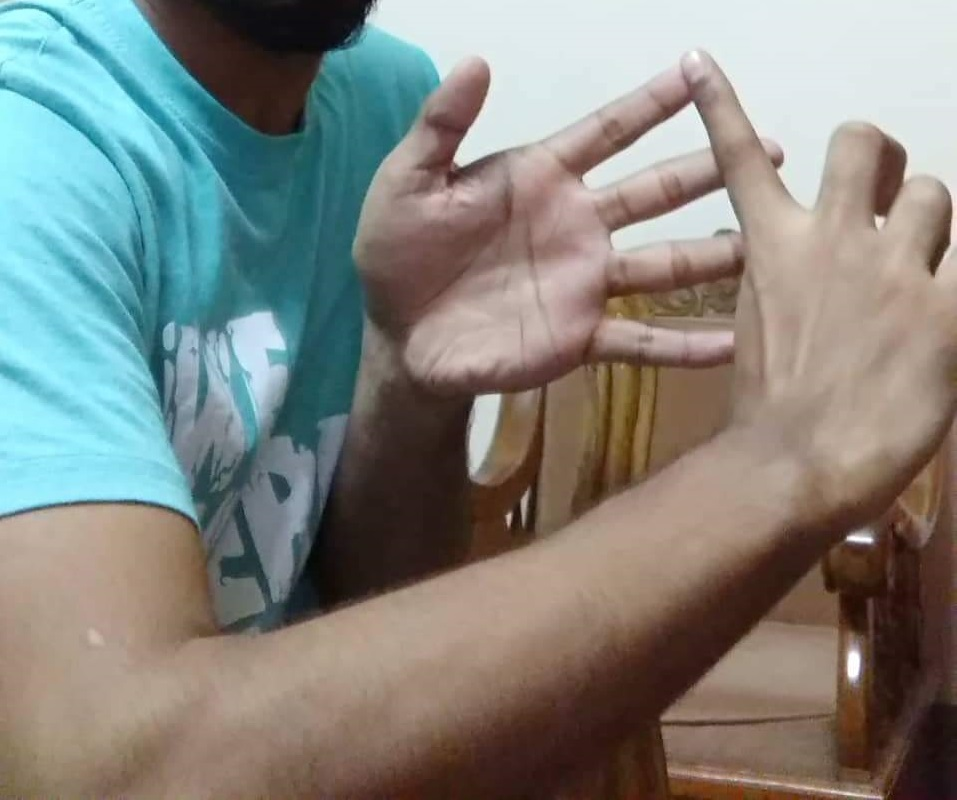o: (410, 41, 949, 358)
